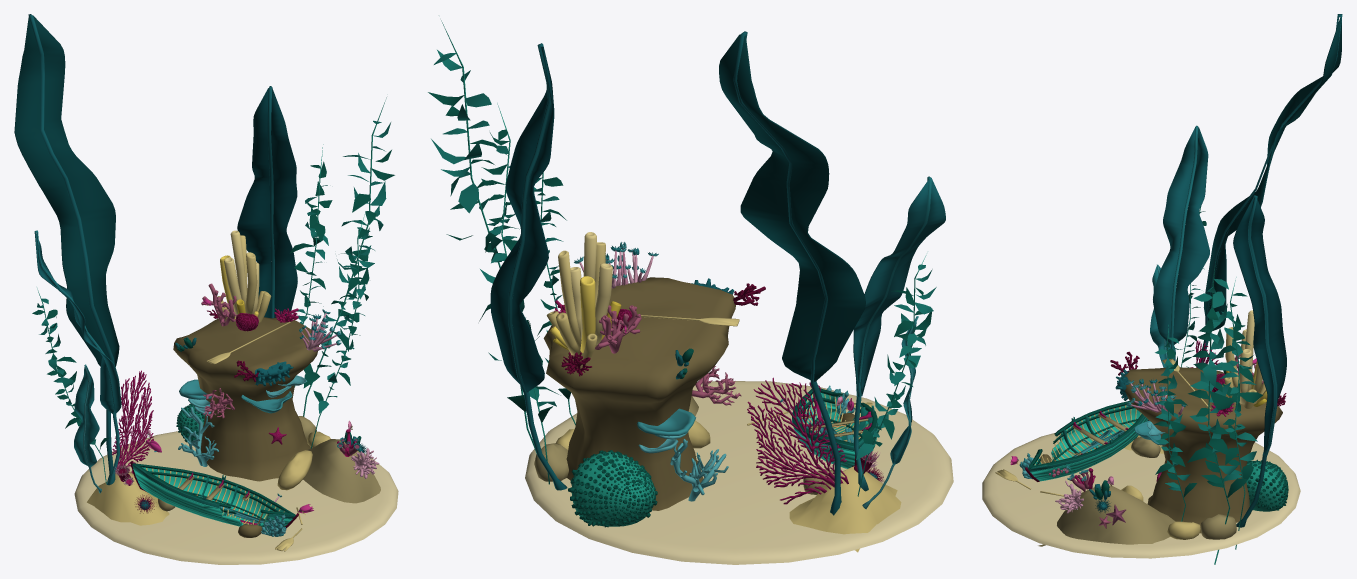
File: theSunkenBoatDraft_edit_for_FBX.fbx
3 renders of one model, left to right at view 1: azimuth 30°, elevation 25°; view 2: azimuth 150°, elevation 25°; view 3: azimuth 270°, elevation 25°, orthographic. The views are drawn at different scales.
Parts seen in each view (by area): view 1: sand01, seaweed03, rock02, seaweed05, boat01, rock01, seaweed08, coral15, rock03, seaweed02, coral16, seaweed07 (+13 smaller); view 2: sand01, rock02, seaweed03, seaweed05, seaweed02, coral16, coral19, coral15, rock03, seaweed08, boat01, seaweed04 (+9 smaller); view 3: sand01, rock02, seaweed02, seaweed05, boat01, seaweed08, rock01, seaweed03, seaweed06, seaweed07, coral15, coral19 (+6 smaller).
Boxes of the visible parts, x1,y1,x2,y2 form: sand01: [74, 431, 398, 564]; seaweed03: [14, 14, 119, 481]; rock02: [173, 317, 318, 481]; seaweed05: [237, 86, 297, 318]; boat01: [130, 461, 298, 530]; rock01: [205, 303, 380, 503]; seaweed08: [303, 97, 394, 416]; coral15: [217, 230, 271, 322]; rock03: [87, 471, 169, 525]; seaweed02: [34, 230, 121, 485]; coral16: [111, 370, 153, 473]; seaweed07: [311, 212, 374, 448]; sand01: [525, 381, 953, 564]; rock02: [543, 277, 736, 510]; seaweed03: [719, 31, 865, 515]; seaweed05: [490, 43, 567, 490]; seaweed02: [853, 176, 945, 491]; coral16: [747, 377, 848, 504]; coral19: [568, 450, 657, 527]; coral15: [546, 232, 621, 358]; rock03: [789, 466, 901, 552]; seaweed08: [428, 20, 560, 453]; boat01: [792, 388, 878, 468]; seaweed04: [856, 255, 936, 496]; sand01: [982, 433, 1300, 558]; rock02: [1125, 367, 1282, 533]; seaweed02: [1153, 125, 1209, 359]; seaweed05: [1233, 195, 1286, 527]; boat01: [1025, 400, 1148, 481]; seaweed08: [1187, 261, 1247, 564]; rock01: [1038, 363, 1254, 546]; seaweed03: [1198, 14, 1342, 362]; seaweed06: [1217, 277, 1262, 549]; seaweed07: [1153, 325, 1196, 521]; coral15: [1222, 310, 1267, 408]; coral19: [1246, 459, 1288, 511].
Size of the model in its own units: 12253 by 14473 by 10404.
